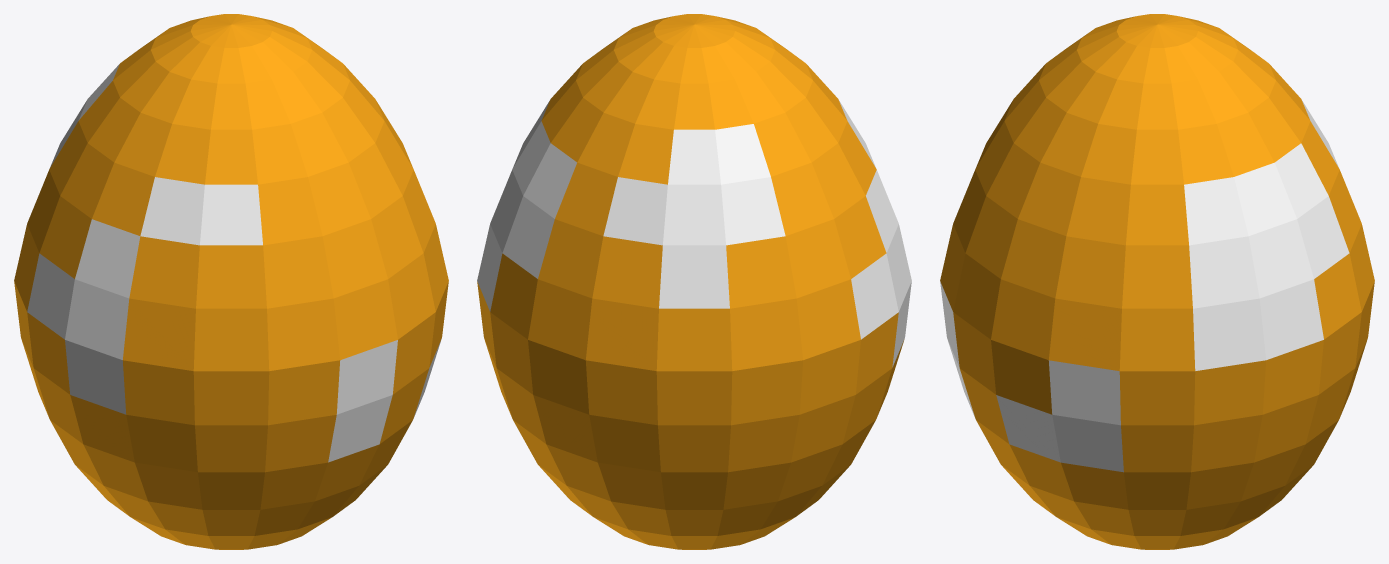
The model's file is Egg_sunburst.obj.
The picture shows the model from 3 angles, left to right: view 1: azimuth 30°, elevation 25°; view 2: azimuth 150°, elevation 25°; view 3: azimuth 270°, elevation 25°; orthographic projection.
Visible parts, largest first — view 1: Egg_sunburst; view 2: Egg_sunburst; view 3: Egg_sunburst.
Part boxes in pixels (x1,y1,x2,y2): Egg_sunburst: (14, 14, 448, 549); Egg_sunburst: (477, 14, 911, 549); Egg_sunburst: (940, 14, 1374, 549).
Size of the model in its own units: 0.2757 by 0.364 by 0.28.
